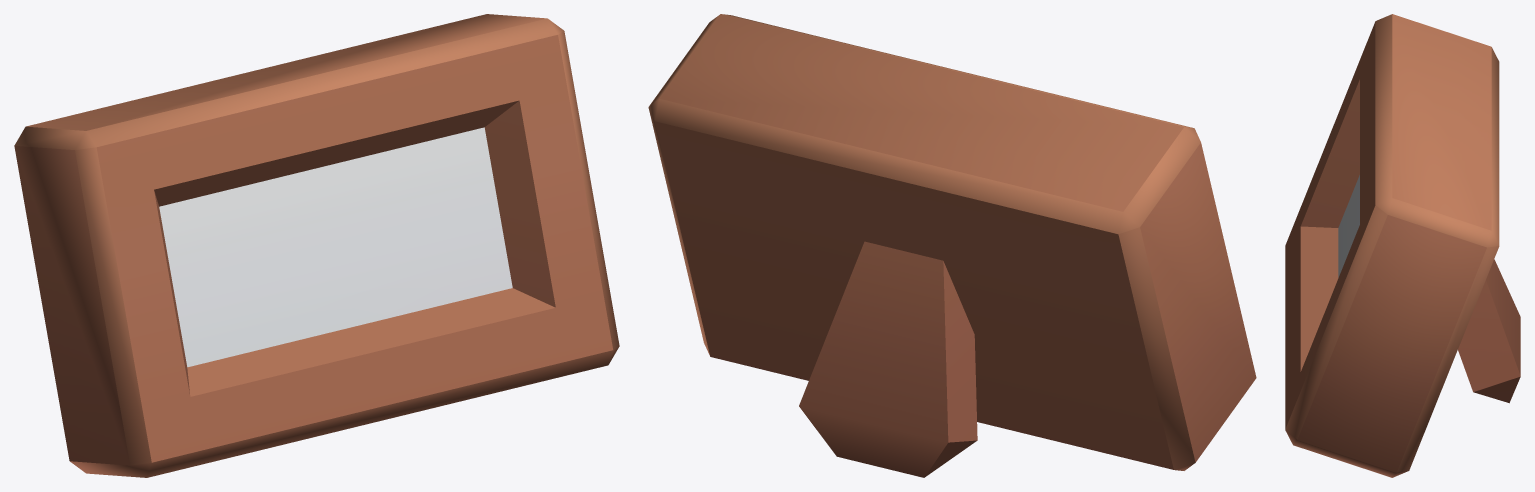
The model's file is kkf.pictureframe_standing_b.glb.
The picture shows the model from 3 angles, left to right: view 1: azimuth 30°, elevation 25°; view 2: azimuth 150°, elevation 25°; view 3: azimuth 270°, elevation 25°; orthographic projection. The views are drawn at different scales.
Parts seen in each view (by area): view 1: pictureframe_standing_B; view 2: pictureframe_standing_B; view 3: pictureframe_standing_B.
Boxes of the visible parts, box(x1,y1,x2,y2) form: pictureframe_standing_B: box(14, 14, 619, 477); pictureframe_standing_B: box(648, 14, 1256, 477); pictureframe_standing_B: box(1285, 14, 1520, 477).
Size of the model in its own units: 0.2504 by 0.1675 by 0.1277.
Materials: 1 (1 with a texture image).
